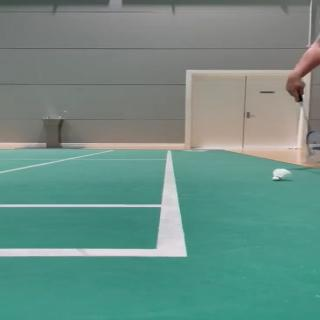Shuttle: (272, 168, 292, 181)
